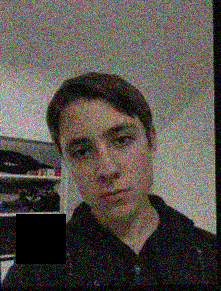without_mask: (62, 119, 154, 220)
